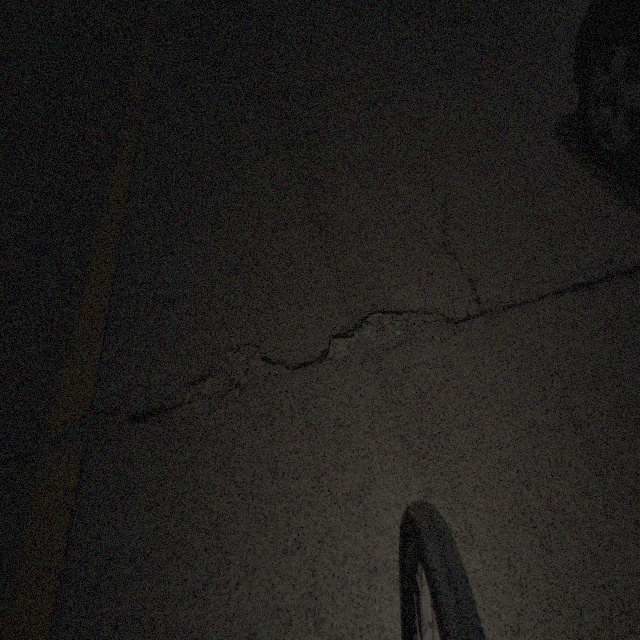pothole: (177, 328, 295, 412), (320, 302, 455, 363), (53, 404, 125, 454), (128, 400, 165, 434)
